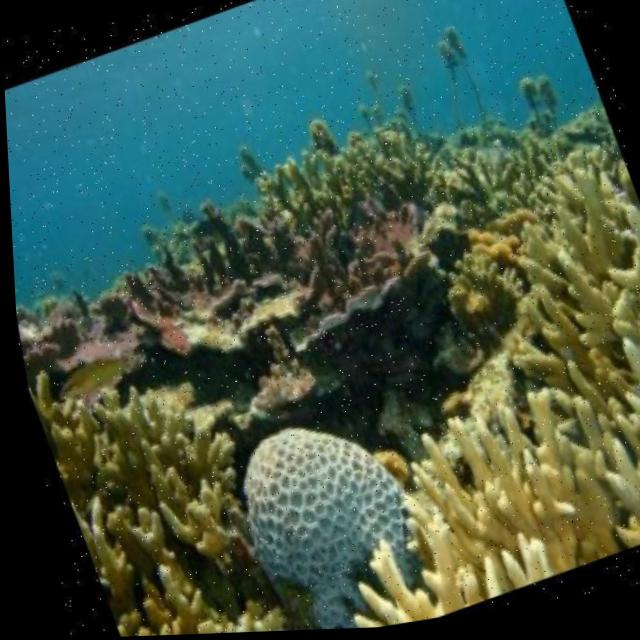Bleached Coral: (155, 355, 459, 636)
